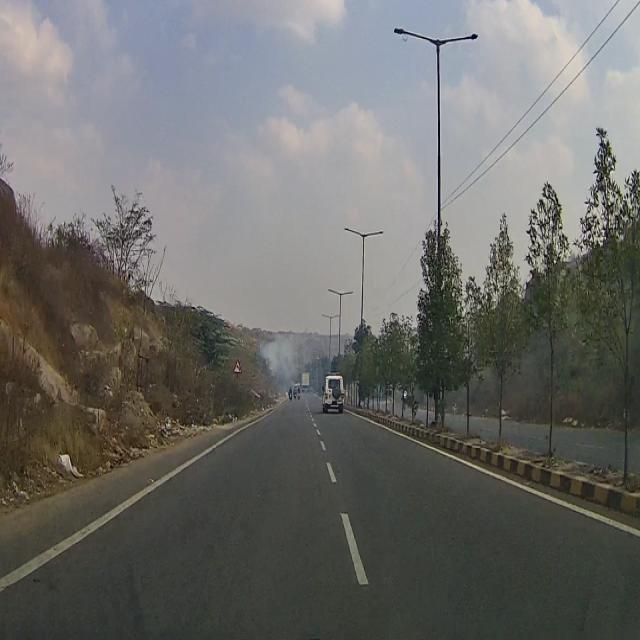left-hand-curve: (234, 359, 241, 375)
